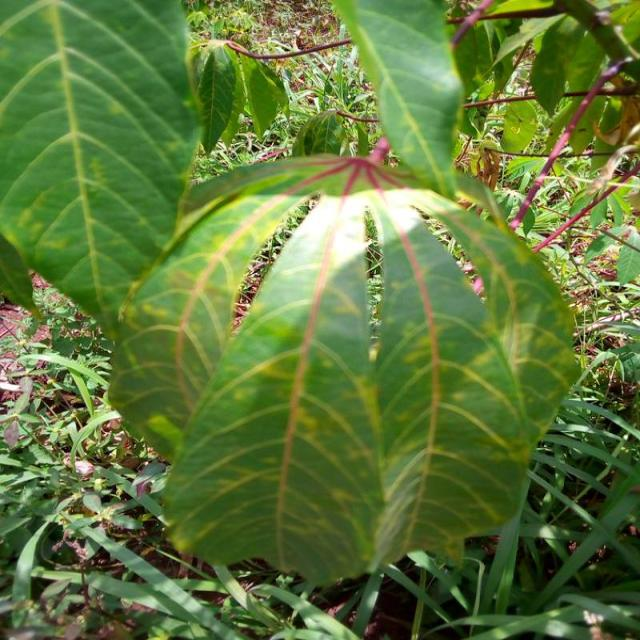cassava leaf: (114, 157, 578, 586), (0, 0, 201, 341)
